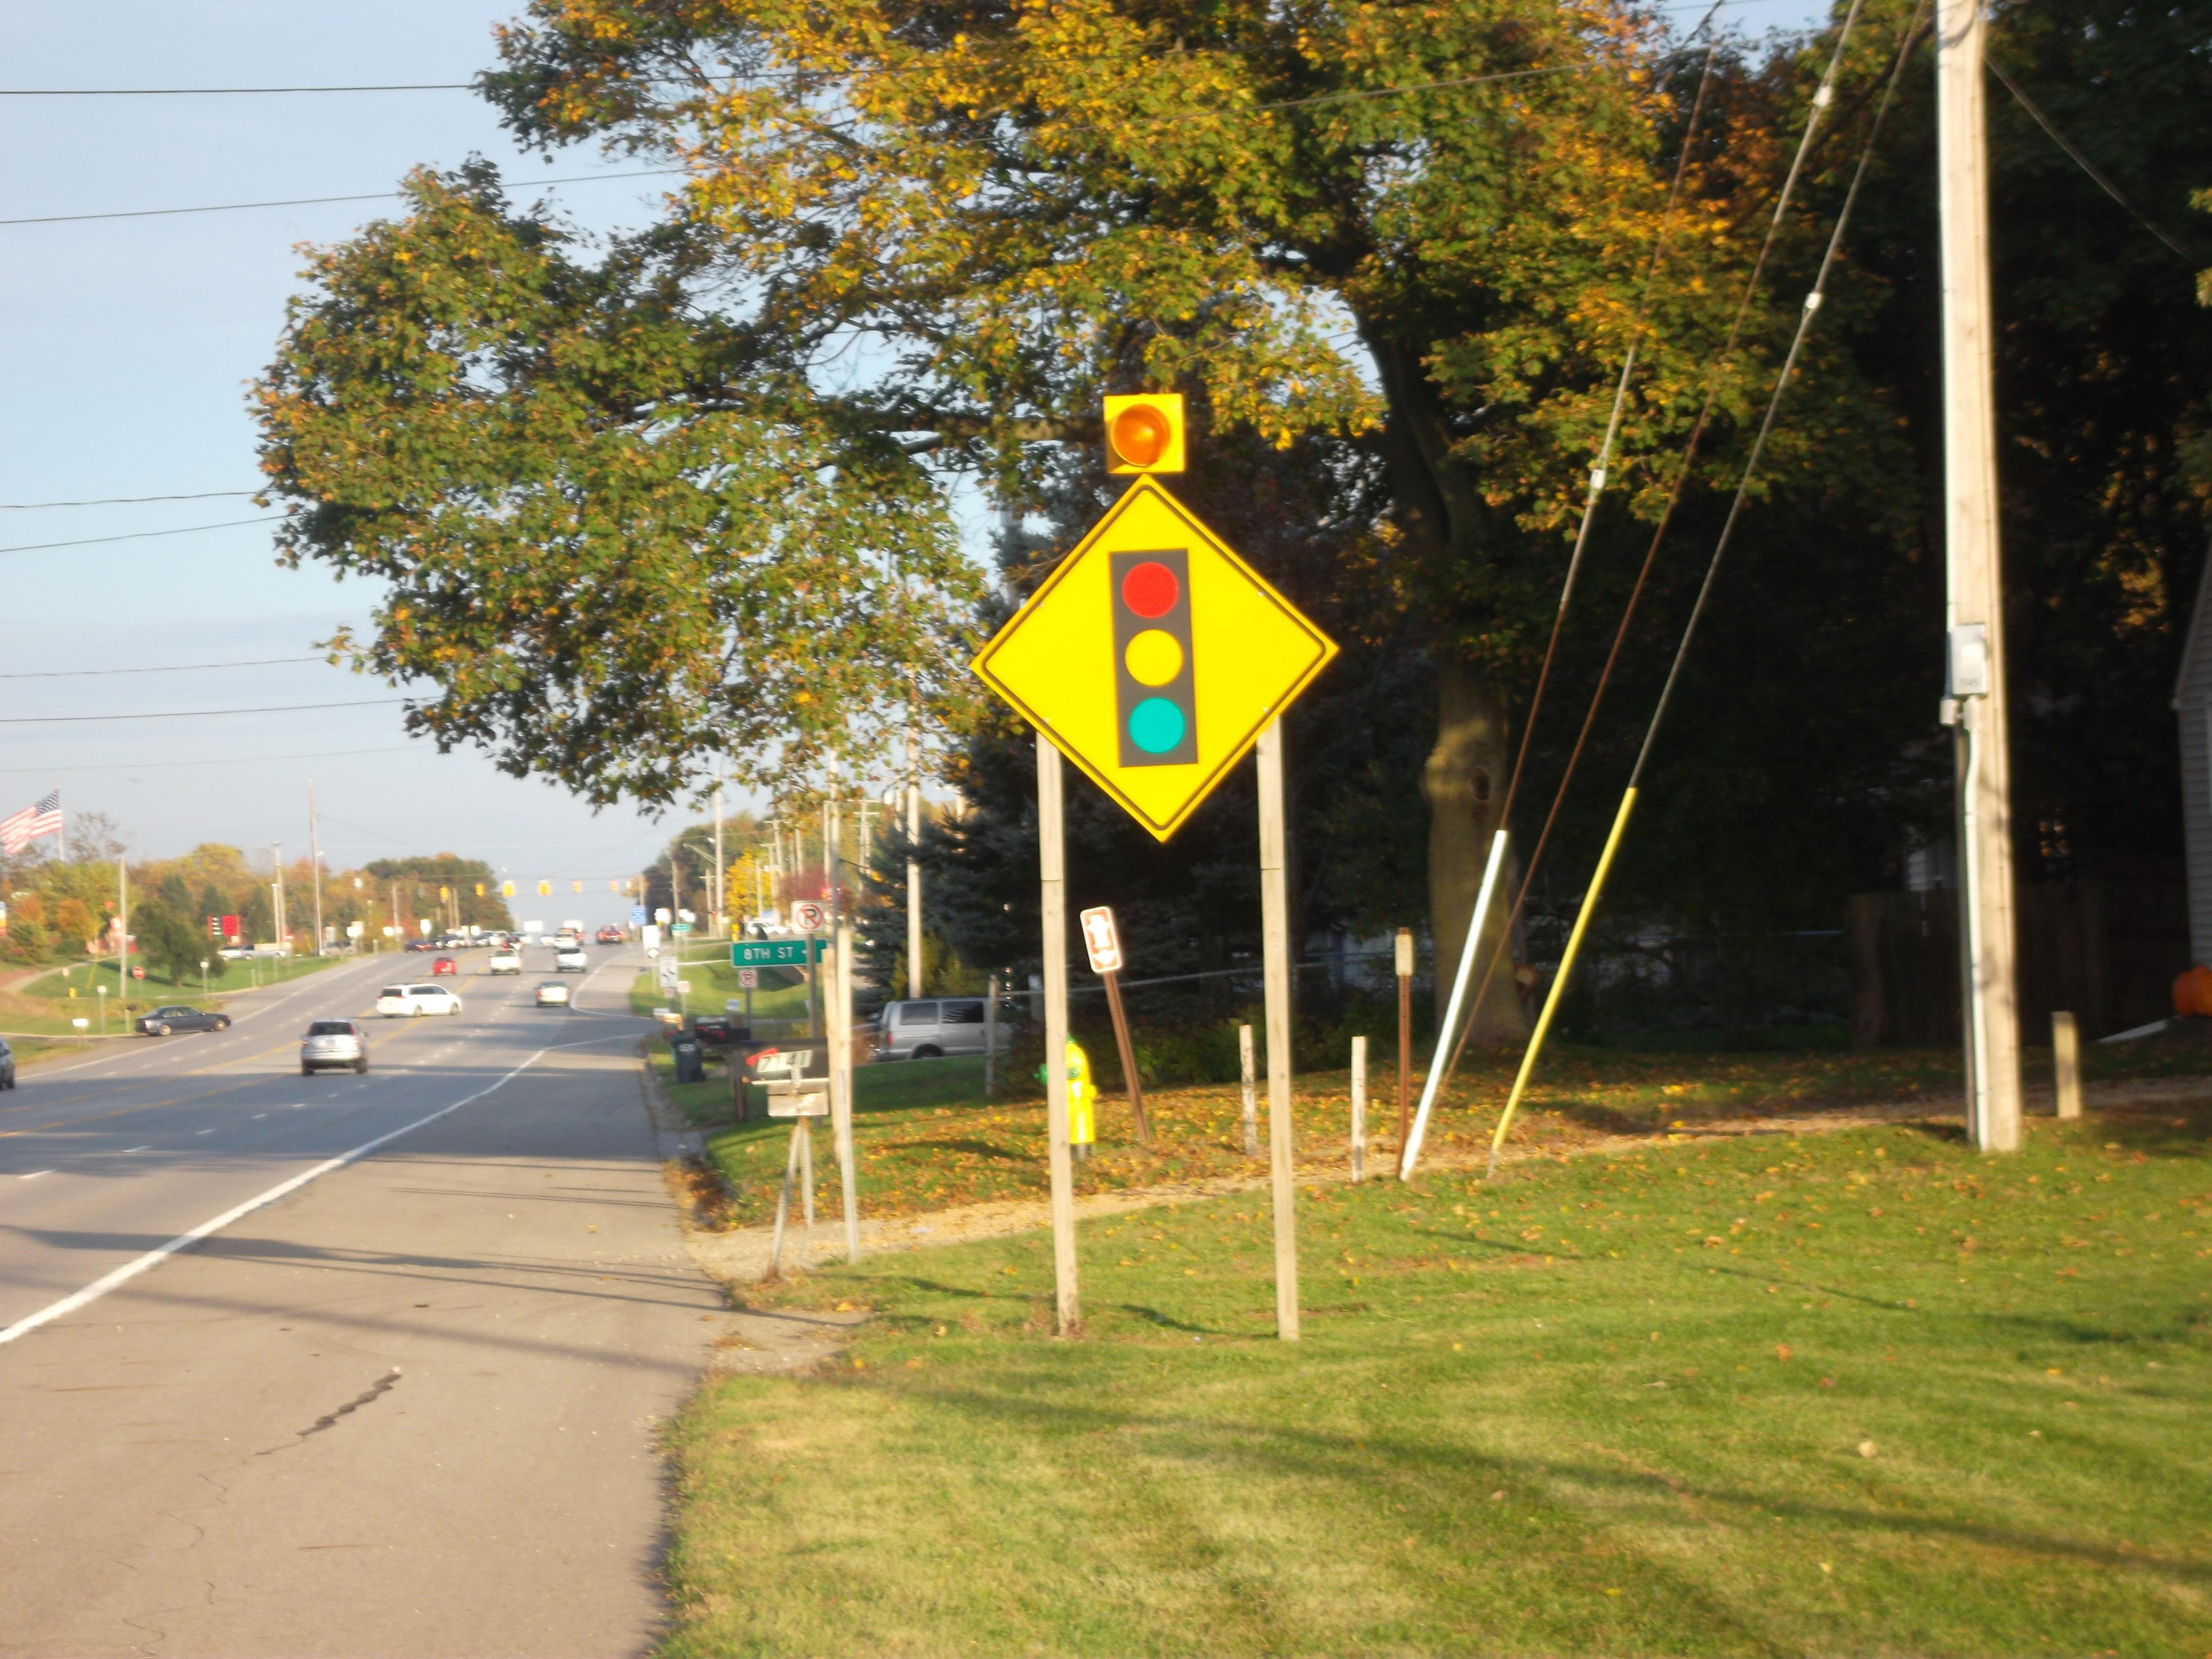warning: (968, 474, 1345, 850)
